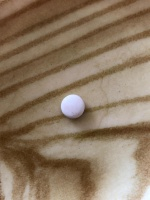Yuvarlak Buskopan: (60, 93, 87, 120)
